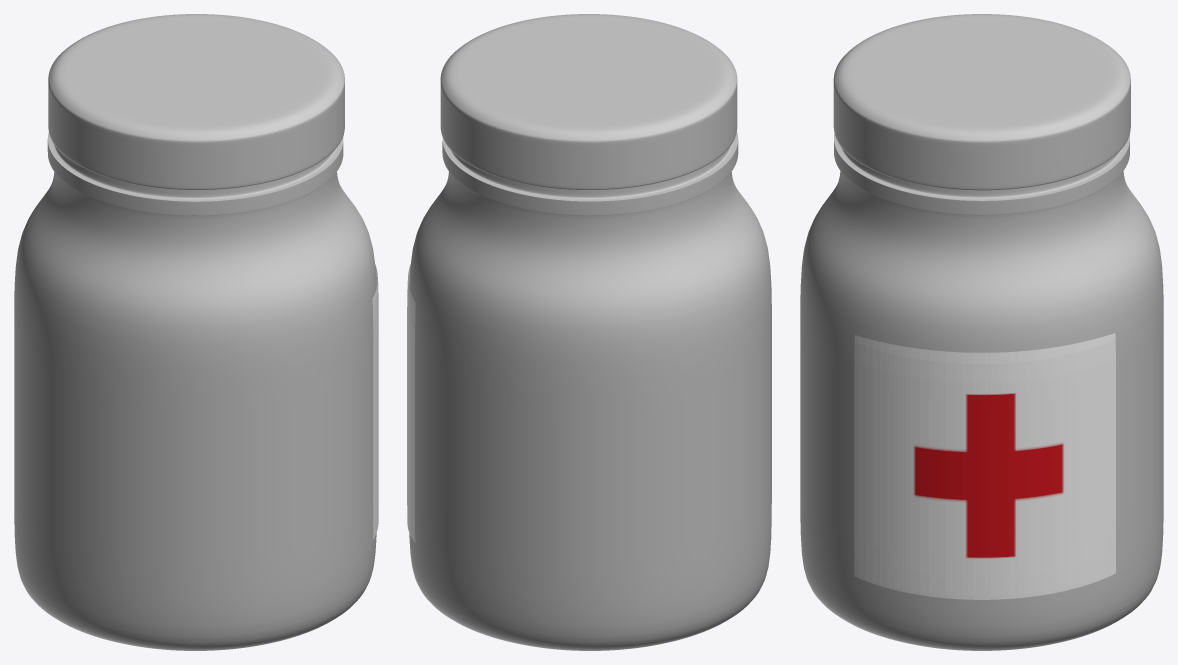
File: RoundPillBottle.fbx
3 views of the same model, side by side, from view 1: azimuth 30°, elevation 25°; view 2: azimuth 150°, elevation 25°; view 3: azimuth 270°, elevation 25° (orthographic).
Visible parts, largest first — view 1: WhitePillBottlleBase, WhitePillBottleLid, Label.001; view 2: WhitePillBottlleBase, WhitePillBottleLid, Label.001; view 3: WhitePillBottlleBase, Label.001, WhitePillBottleLid.
Part boxes in pixels (x1,y1,x2,y2): WhitePillBottlleBase: [14, 132, 376, 650]; WhitePillBottleLid: [48, 14, 344, 189]; Label.001: [372, 264, 378, 539]; WhitePillBottlleBase: [409, 132, 771, 650]; WhitePillBottleLid: [440, 14, 737, 190]; Label.001: [407, 264, 415, 542]; WhitePillBottlleBase: [800, 133, 1163, 650]; Label.001: [854, 333, 1115, 599]; WhitePillBottleLid: [833, 14, 1130, 190].
Bounding box in the file's own units: 210 × 326 × 209.
